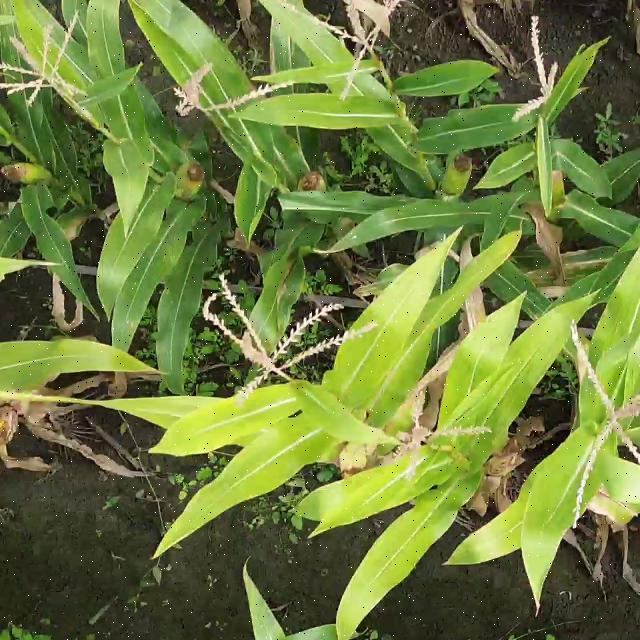gray-leaf-spot: (0, 12, 33, 64), (156, 229, 183, 271)
northern-leaf-blight: (524, 252, 605, 288)
southern-leaf-blight: (515, 282, 550, 317)
